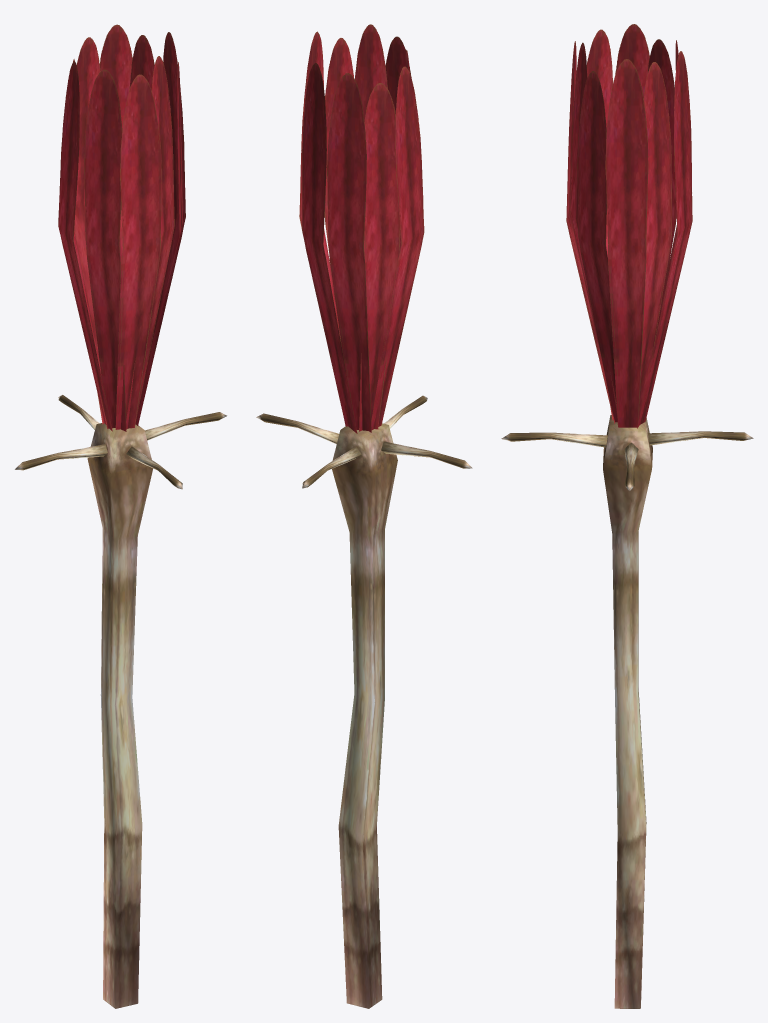
File: flow_tatt_funnel_sm_l0.fbx
3 renders of one model, left to right at view 1: azimuth 30°, elevation 25°; view 2: azimuth 150°, elevation 25°; view 3: azimuth 270°, elevation 25°, orthographic.
Visible parts, largest first — view 1: mesh_node; view 2: mesh_node; view 3: mesh_node.
Part boxes in pixels (left/top/right/bottom): mesh_node: left=15, top=24, right=226, bottom=1008; mesh_node: left=256, top=24, right=472, bottom=1008; mesh_node: left=501, top=24, right=753, bottom=1008.
Bounding box in the file's own units: 0.223 × 0.9587 × 0.2244.
